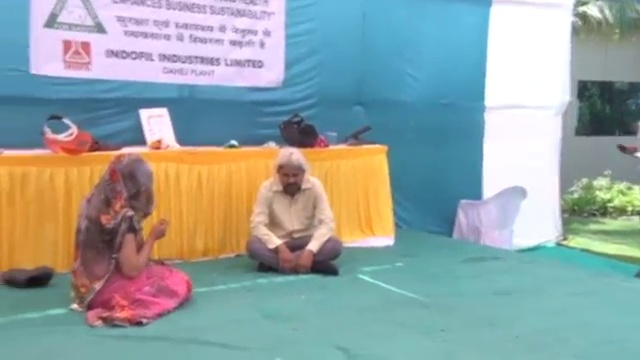helmet_off: (108, 154, 155, 201), (278, 146, 306, 198)
person: (71, 153, 194, 329), (243, 145, 346, 279)
